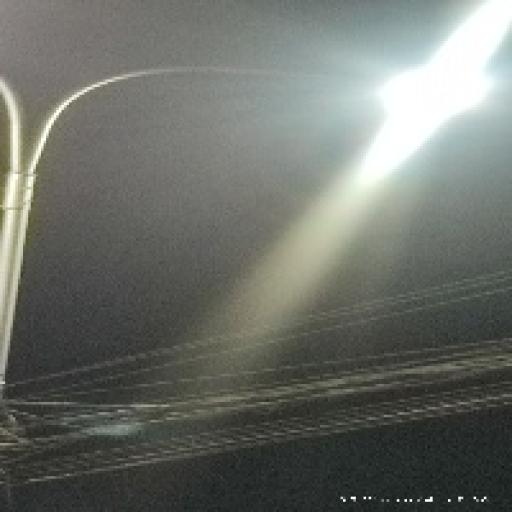Working: (366, 56, 502, 138)
